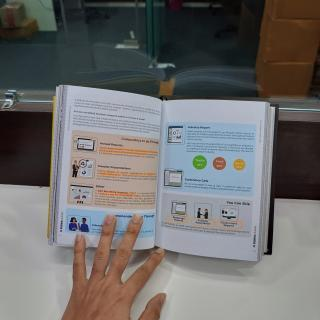book: (44, 83, 283, 261)
